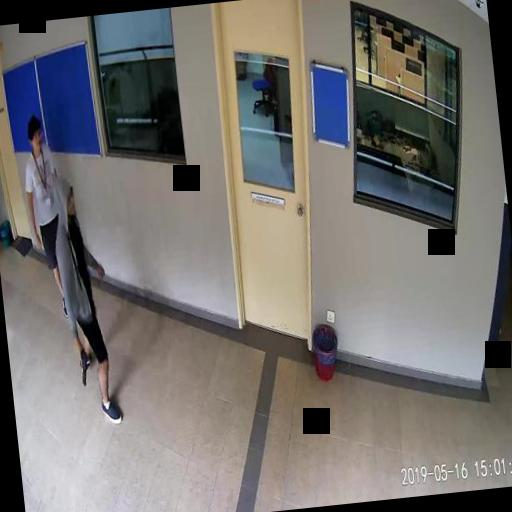Handgun: (76, 344, 88, 386)
